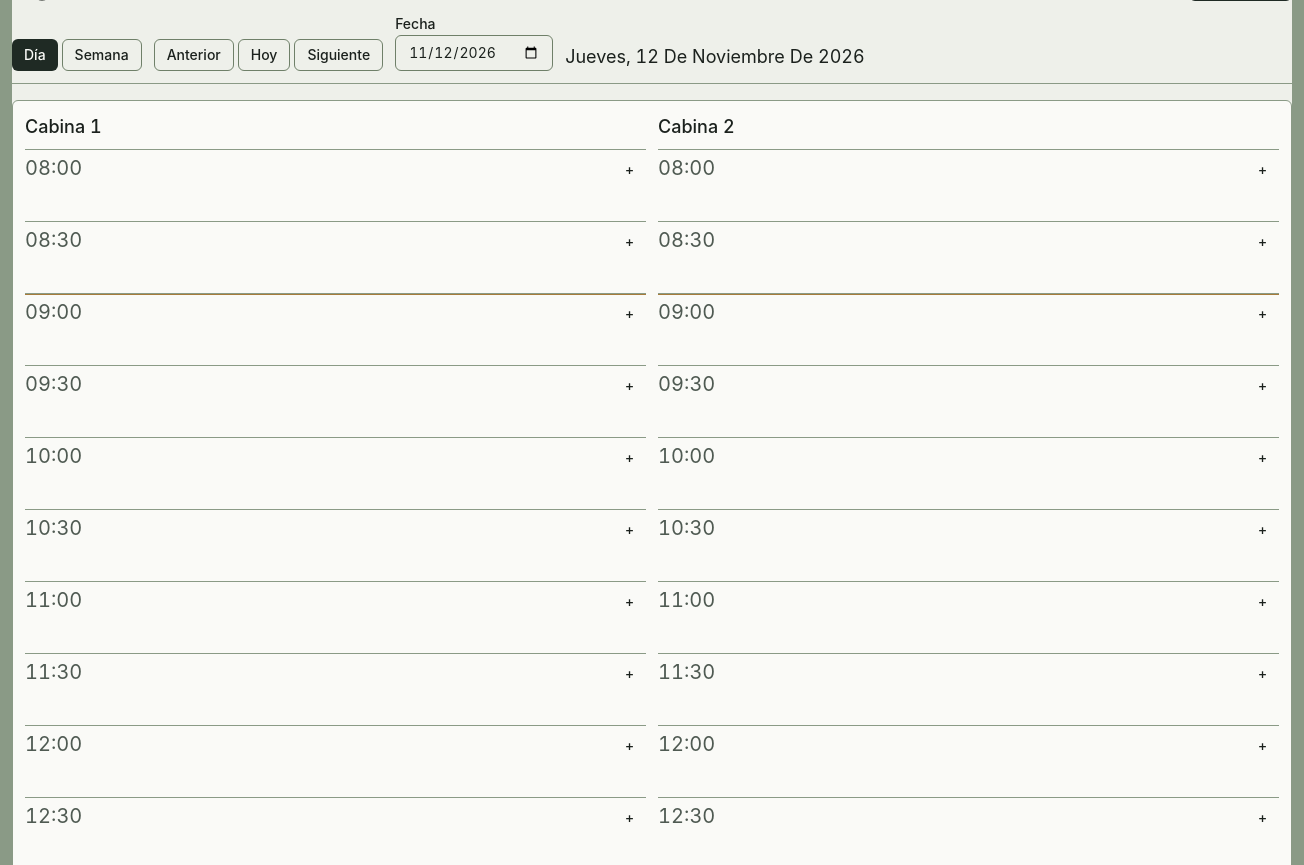
AppointmentsPage › cancela una cita y libera su franja
What coordinates should you click on to do the following:
click the button "Siguiente"
I would click on:
 (339, 55)
Its box is [294,39,383,71].
(page scrolled)
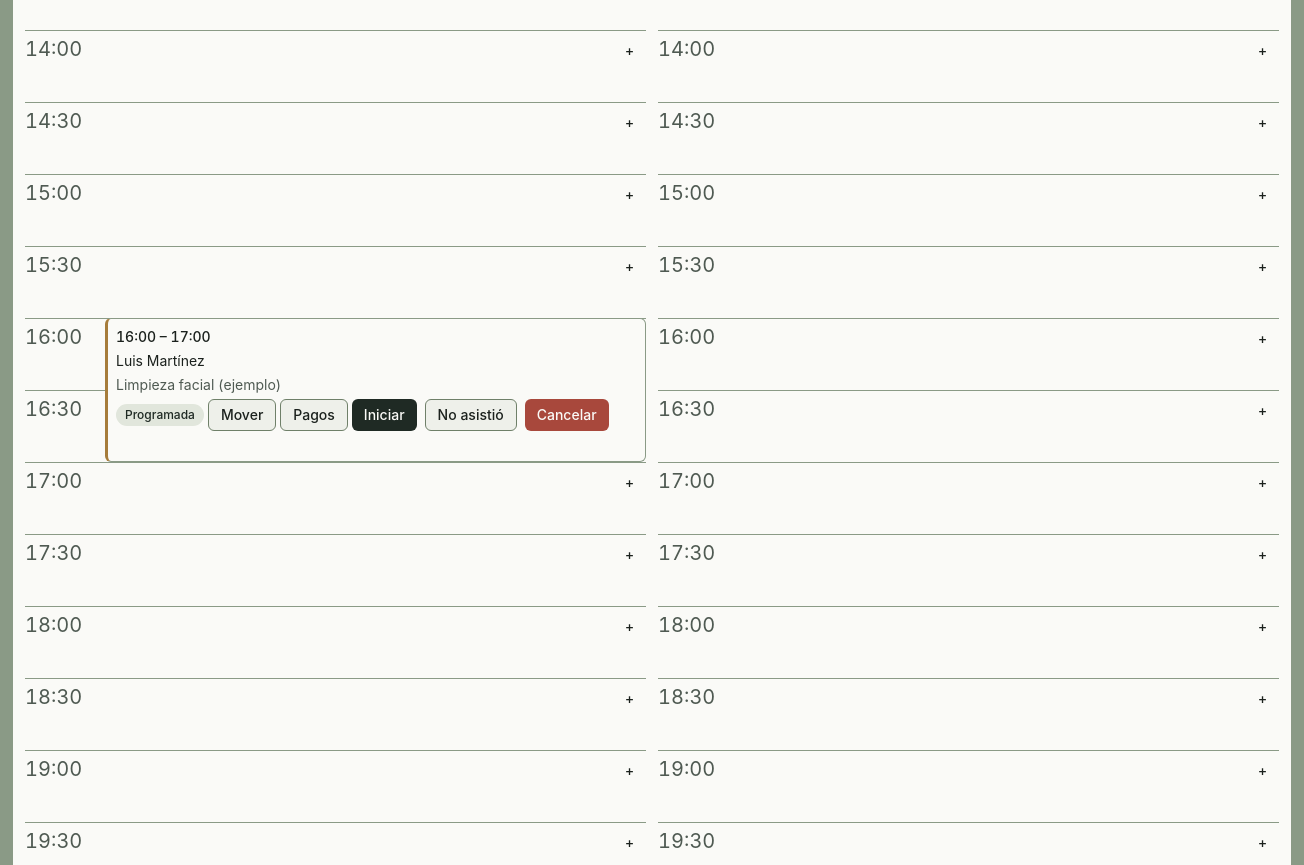
What coordinates should you click on to do the following:
click the button with aria-label "Cancelar cita de Luis Martínez"
I would click on:
 (567, 415)
Its box is [525,399,608,431].
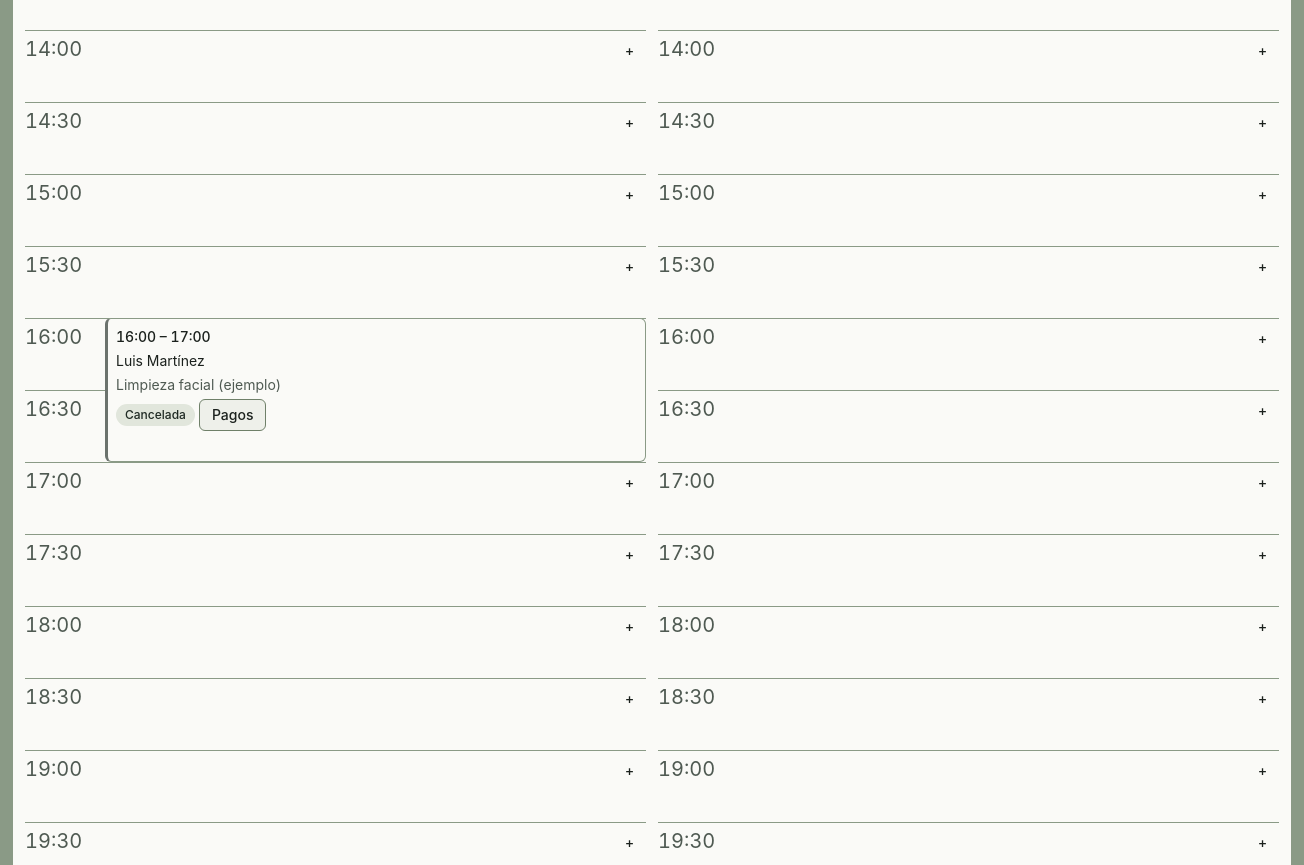
Expected: the button named "Crear cita en Cabina 1 a las 16:00" is shown, [613,323,646,355]
Now the element named "Cita de Luis Martínez a las 16:00" shows "Cancelada", box [125,407,186,422]
